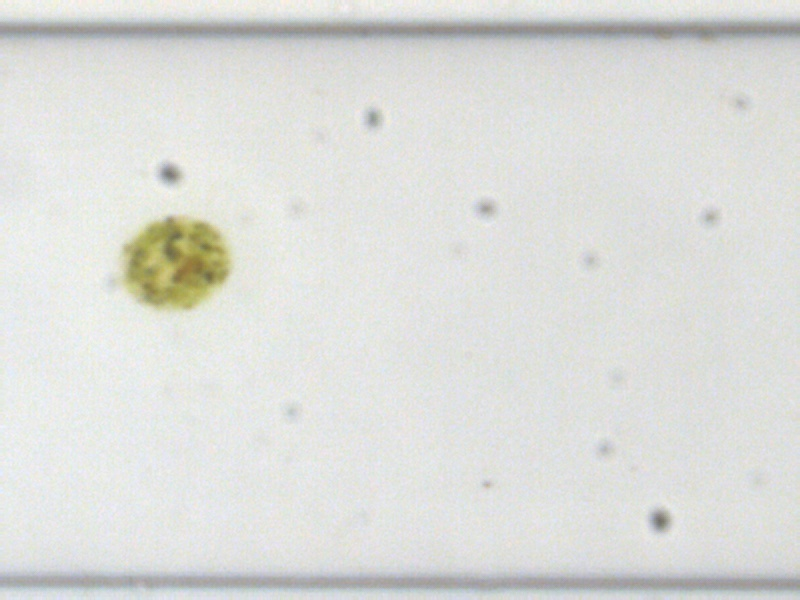Haematococcus: (118, 210, 232, 318)
